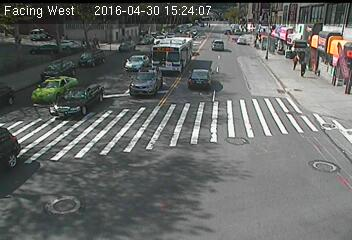neg: (95, 76, 111, 98), (241, 84, 255, 102), (227, 56, 240, 74), (23, 90, 36, 107), (161, 72, 173, 89), (141, 77, 153, 93), (263, 43, 274, 58), (79, 83, 88, 95)
pos: (299, 58, 313, 76), (290, 54, 303, 71), (126, 34, 133, 44), (80, 37, 87, 47)
